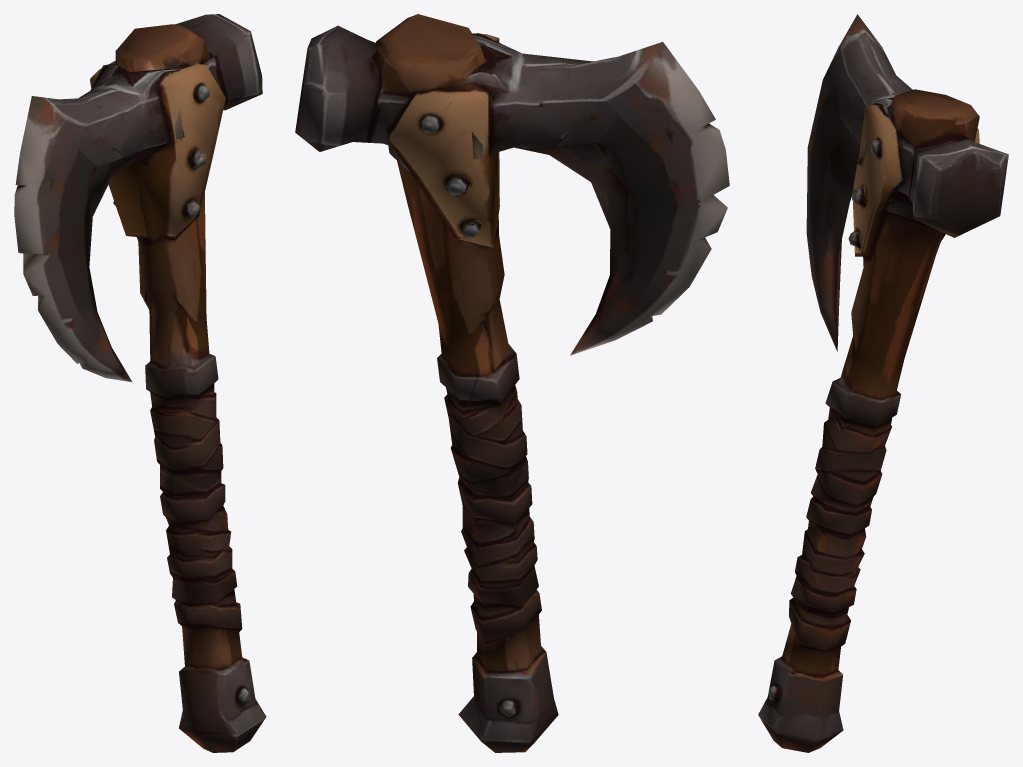
File: axe_reaver.glb
The picture shows the model from 3 angles, left to right: view 1: azimuth 30°, elevation 25°; view 2: azimuth 150°, elevation 25°; view 3: azimuth 270°, elevation 25°; orthographic projection. The views are drawn at different scales.
Parts seen in each view (by area): view 1: tripo_node_81117374-700d-49be-a72e-f4e4c0ce54ab; view 2: tripo_node_81117374-700d-49be-a72e-f4e4c0ce54ab; view 3: tripo_node_81117374-700d-49be-a72e-f4e4c0ce54ab.
Part boxes in pixels (x1=…): tripo_node_81117374-700d-49be-a72e-f4e4c0ce54ab: x1=14, y1=14, x2=266, y2=752; tripo_node_81117374-700d-49be-a72e-f4e4c0ce54ab: x1=295, y1=14, x2=729, y2=752; tripo_node_81117374-700d-49be-a72e-f4e4c0ce54ab: x1=758, y1=14, x2=1008, y2=752.
Size of the model in its own units: 0.6965 by 1.45 by 0.5027.
1 material, 1 textured.
